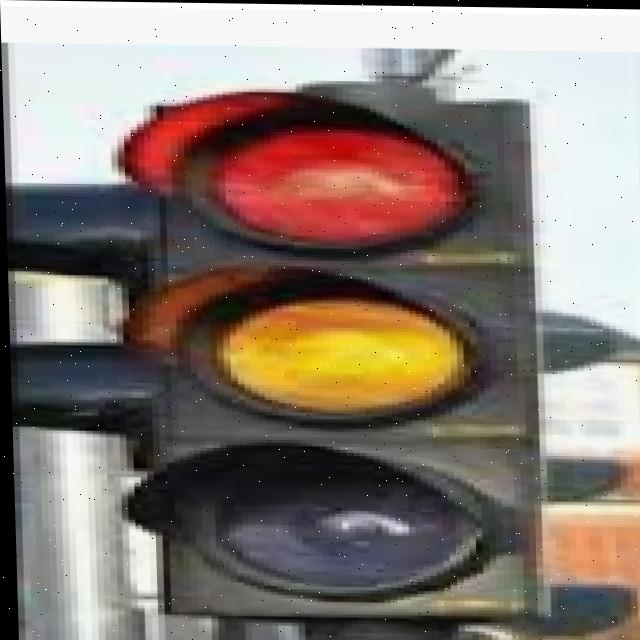light_traffic: (1, 21, 606, 640)
